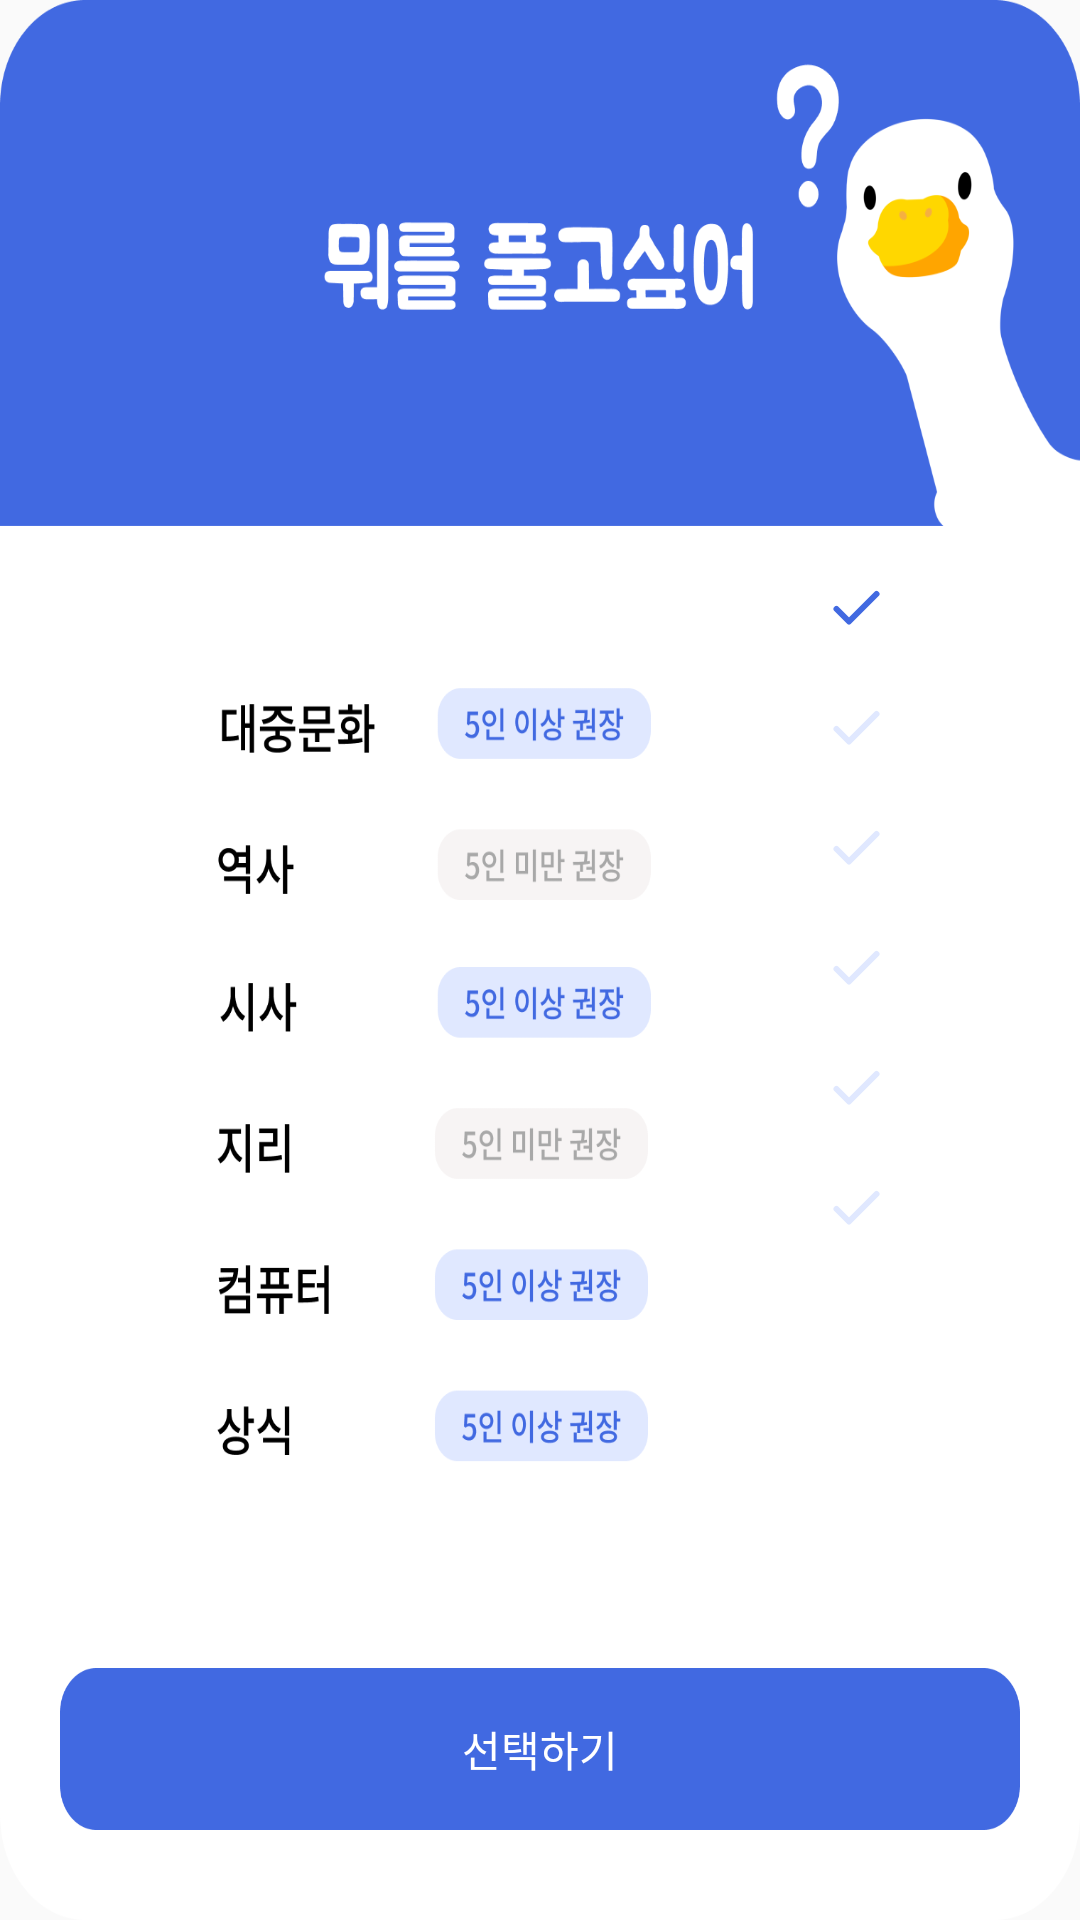

Icons on this 1080px x 1920px Android screen, each with the point to tap as [x,y]:
check: [856,608], [856,727], [856,847], [856,967], [856,1087], [856,1207]
